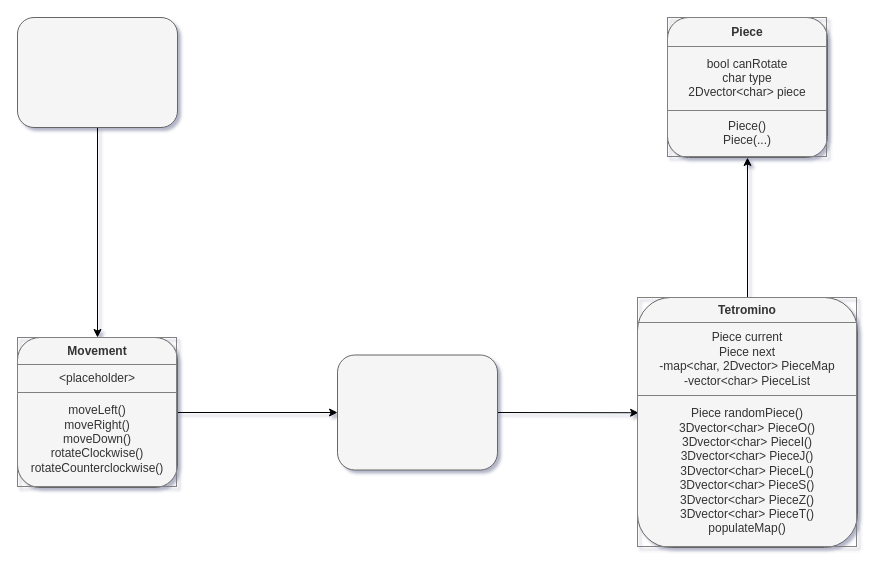
This 881x571 diagram has some shape labels left out. The box of each missing label's shape, as (x1, y1, x2, y2) in pixels:
Game <placeholder> run(): (16, 16, 178, 128)
Grid 2Dvector<char> grid Grid() createGrid() printGrid(): (336, 354, 498, 470)
